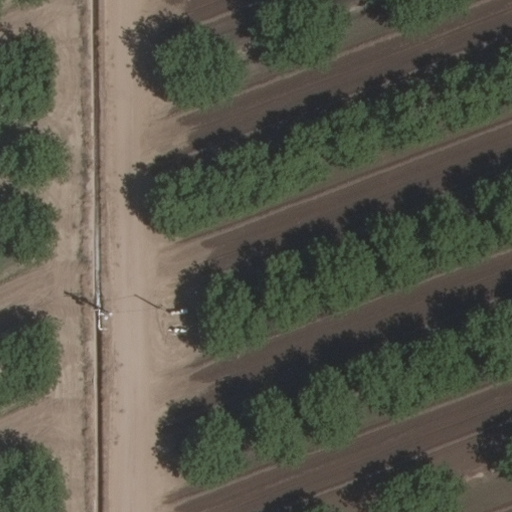DT: (87, 301, 114, 326)
